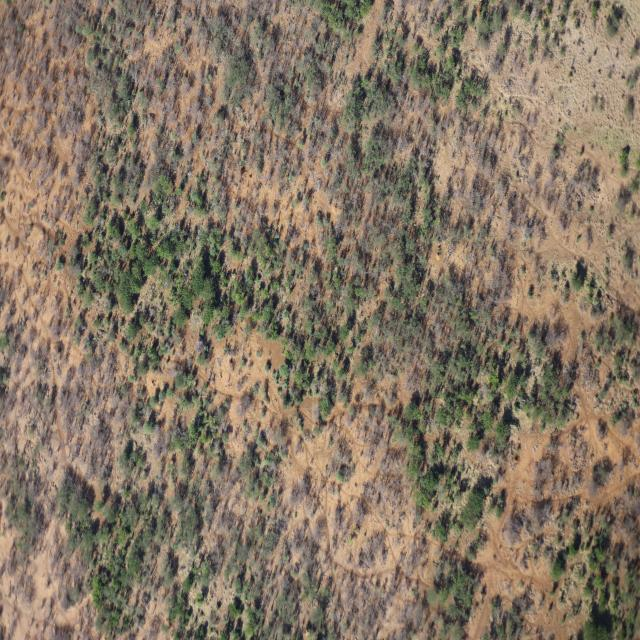elephant: (476, 1, 482, 18)
